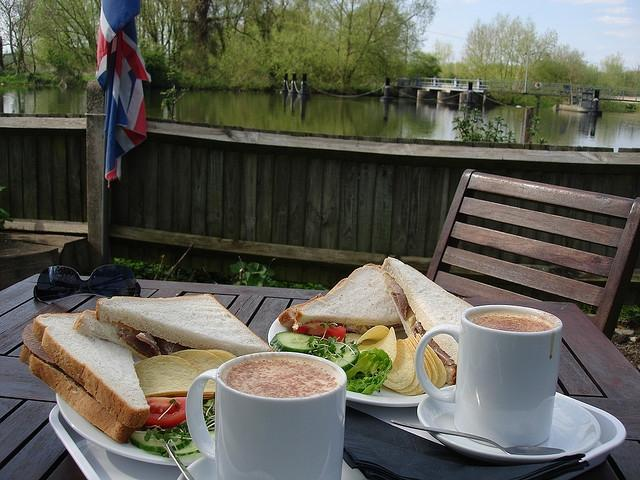cucumber: (130, 432, 192, 452), (270, 331, 323, 354), (174, 429, 216, 456), (328, 343, 359, 372)
tomato: (144, 396, 187, 428), (292, 320, 346, 343)
